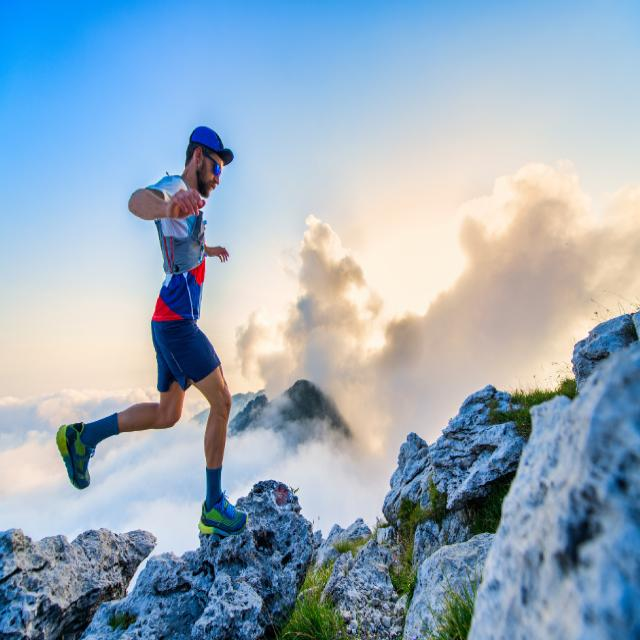running: (54, 123, 250, 546)
